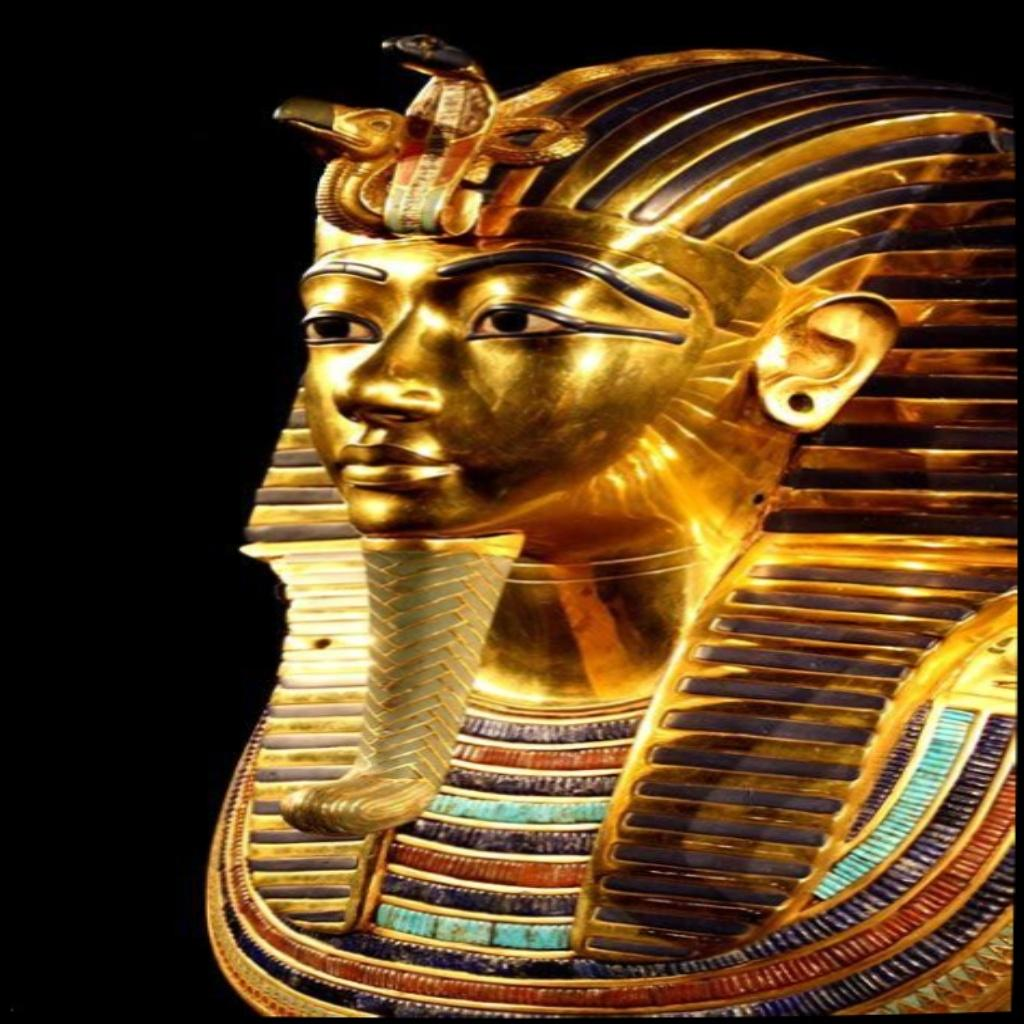Mask of Tutankhamun: (201, 33, 1013, 1015)
